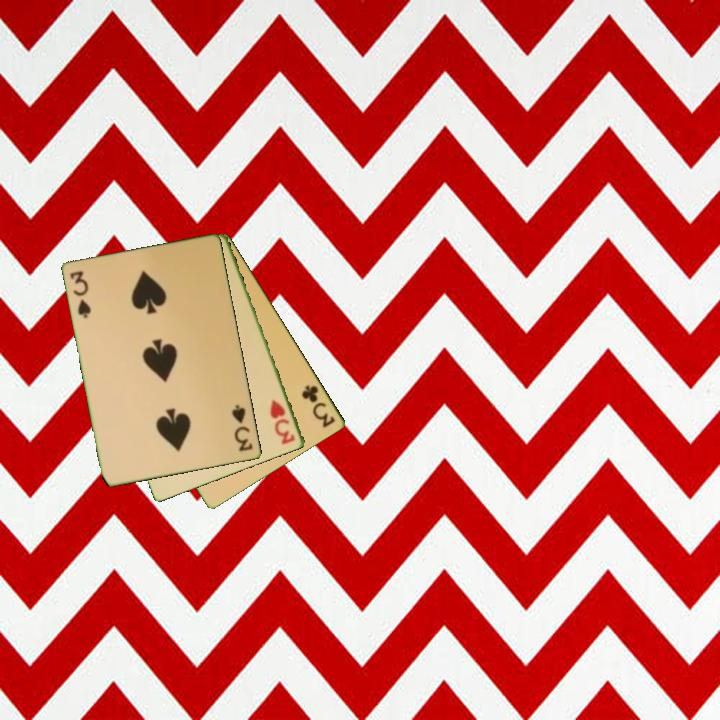3c: (298, 381, 339, 431)
3h: (267, 396, 298, 448)
3s: (67, 267, 94, 321), (229, 402, 256, 454)
